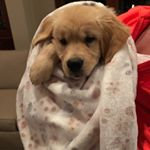puppy: (27, 6, 132, 91)
